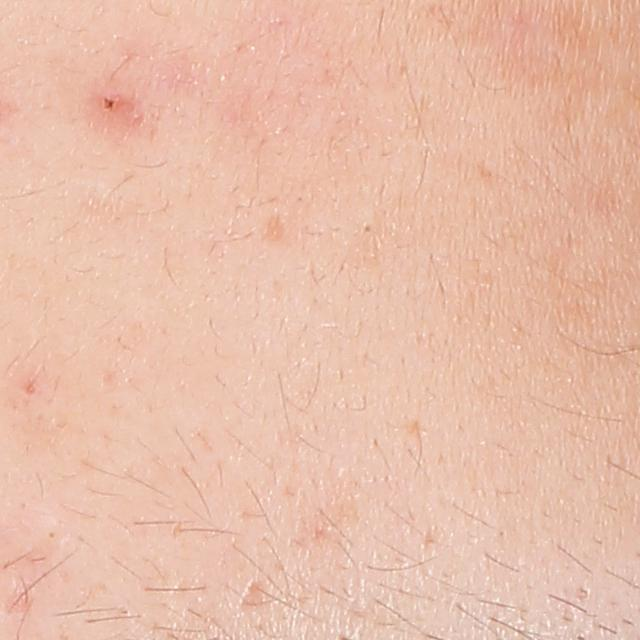atrophic_scar: (238, 577, 279, 610), (260, 212, 286, 243)
comedo: (42, 524, 61, 545)
papule: (92, 80, 136, 124)
